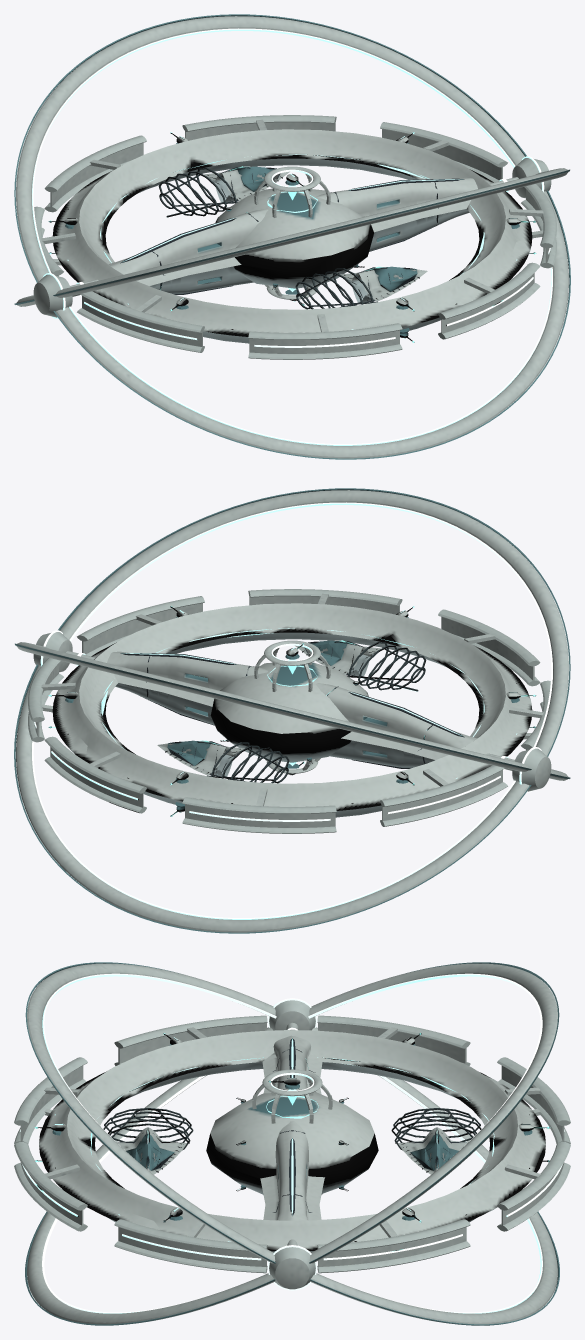
File: Avanti_Shipyard_T3.fbx
3 views of the same model, one above another, from view 1: azimuth 30°, elevation 25°; view 2: azimuth 150°, elevation 25°; view 3: azimuth 270°, elevation 25° (orthographic). The views are drawn at different scales.
Parts seen in each view (by area): view 1: Hull_LOD0; view 2: Hull_LOD0; view 3: Hull_LOD0.
Part boxes in pixels (box(x1,y1,x2,y2)): Hull_LOD0: box(14, 14, 570, 459); Hull_LOD0: box(14, 488, 570, 933); Hull_LOD0: box(14, 962, 570, 1325).
Size of what is drawn, in the model's own units: 21500 by 9870 by 19262.
